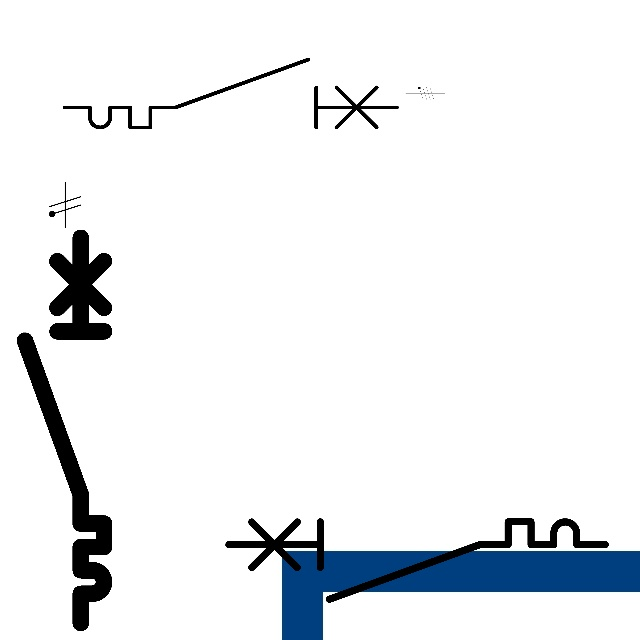interruptor_termomagnetico: (15, 227, 114, 632), (219, 512, 615, 609), (56, 51, 406, 136)
